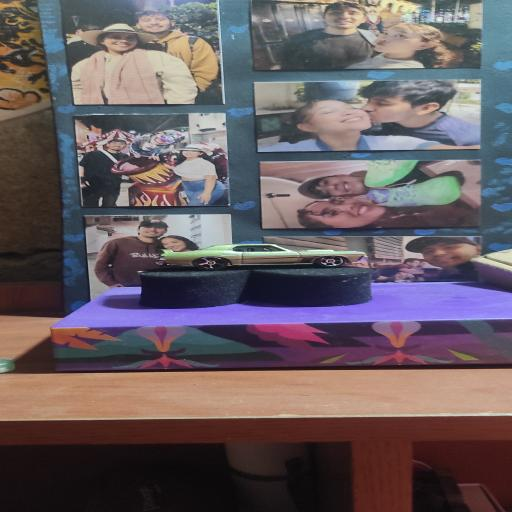Carrito: (159, 243, 366, 270)
